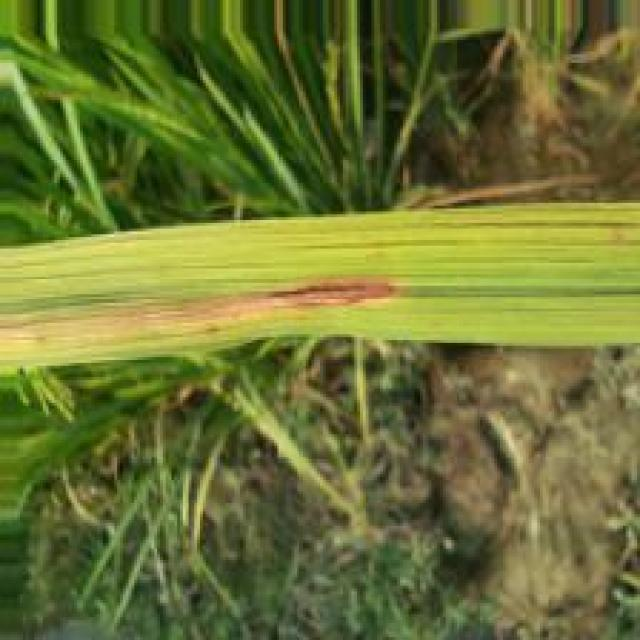Rice Tungro: (0, 274, 402, 345)
